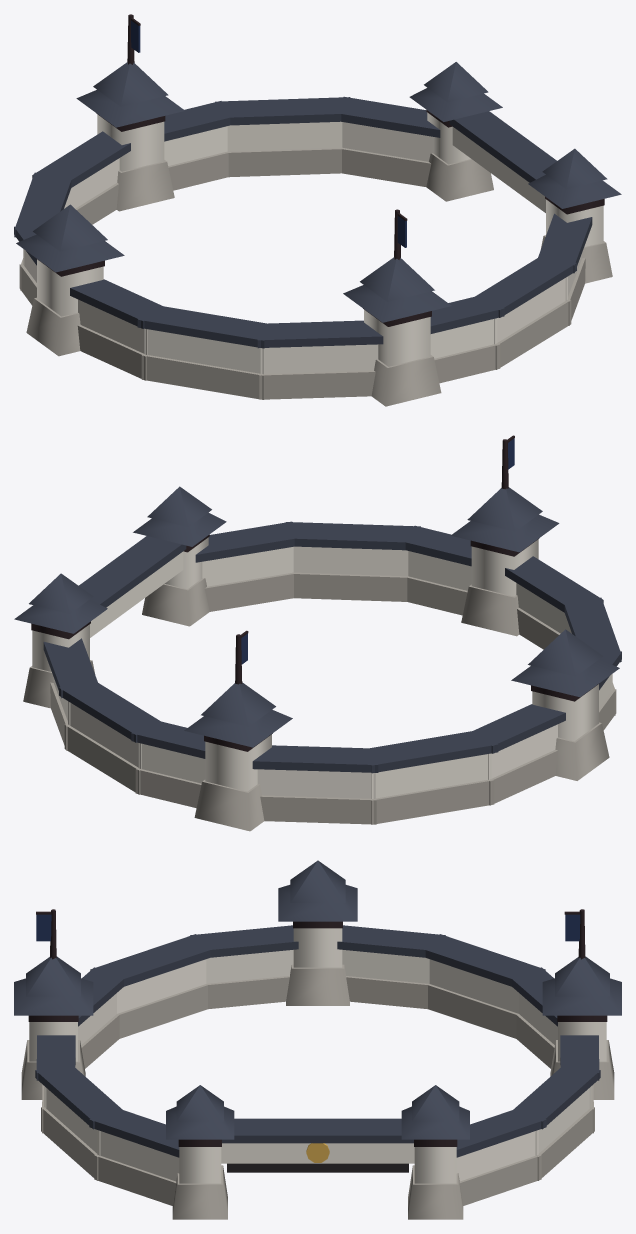
File: base_merchant_walls_2.glb
The picture shows the model from 3 angles, top to bottom: view 1: azimuth 30°, elevation 25°; view 2: azimuth 150°, elevation 25°; view 3: azimuth 270°, elevation 25°; orthographic projection.
Parts seen in each view (by area): view 1: gate_arch_cap, wall_1_cap, wall_7, wall_7_plaster, wall_8_plaster, wall_1_plaster, wall_7_cap, wall_1, wall_8, wall_8_cap, wall_10_cap, tower_260_ishigaki (+40 smaller); view 2: gate_arch_cap, wall_4_cap, wall_4, wall_4_plaster, wall_3_plaster, wall_10_plaster, wall_10_cap, wall_10, wall_3, wall_3_cap, tower_100_ishigaki, wall_1_cap (+40 smaller); view 3: gate_arch_cap, gate_arch, wall_4_cap, wall_7_cap, wall_1_cap, wall_10_cap, wall_6_cap, wall_4, wall_7, tower_180_ishigaki, wall_5_plaster, wall_6_plaster (+43 smaller).
Boxes of the visible parts, <box> form: gate_arch_cap: <box>449,111,556,182</box>; wall_1_cap: <box>215,97,352,125</box>; wall_7: <box>141,353,265,399</box>; wall_7_plaster: <box>144,328,264,374</box>; wall_8_plaster: <box>260,344,378,373</box>; wall_1_plaster: <box>227,121,342,151</box>; wall_7_cap: <box>137,305,275,348</box>; wall_1: <box>222,147,348,177</box>; wall_8: <box>259,370,375,399</box>; wall_8_cap: <box>255,320,383,348</box>; wall_10_cap: <box>468,258,576,317</box>; tower_260_ishigaki: <box>371,355,441,406</box>; gate_arch_cap: <box>79,536,186,607</box>; wall_4_cap: <box>358,729,498,773</box>; wall_4: <box>371,778,494,824</box>; wall_4_plaster: <box>371,753,491,798</box>; wall_3_plaster: <box>257,769,375,798</box>; wall_10_plaster: <box>293,546,408,576</box>; wall_10_cap: <box>282,522,420,550</box>; wall_10: <box>288,572,408,601</box>; wall_3: <box>260,795,376,824</box>; wall_3_cap: <box>252,745,378,772</box>; tower_100_ishigaki: <box>194,780,264,831</box>; wall_1_cap: <box>59,678,167,742</box>; gate_arch_cap: <box>222,1118,413,1143</box>; gate_arch: <box>221,1143,414,1163</box>; wall_4_cap: <box>416,934,545,986</box>; wall_7_cap: <box>90,934,219,986</box>; wall_1_cap: <box>508,1063,600,1129</box>; wall_10_cap: <box>35,1063,127,1129</box>; wall_6_cap: <box>190,925,298,957</box>; wall_4: <box>423,983,521,1038</box>; wall_7: <box>114,983,212,1038</box>; tower_180_ishigaki: <box>286,964,349,1005</box>; wall_5_plaster: <box>342,950,429,983</box>; wall_6_plaster: <box>206,950,293,983</box>.
Bounding box in the file's own units: 1.09 × 0.3618 × 1.13.
